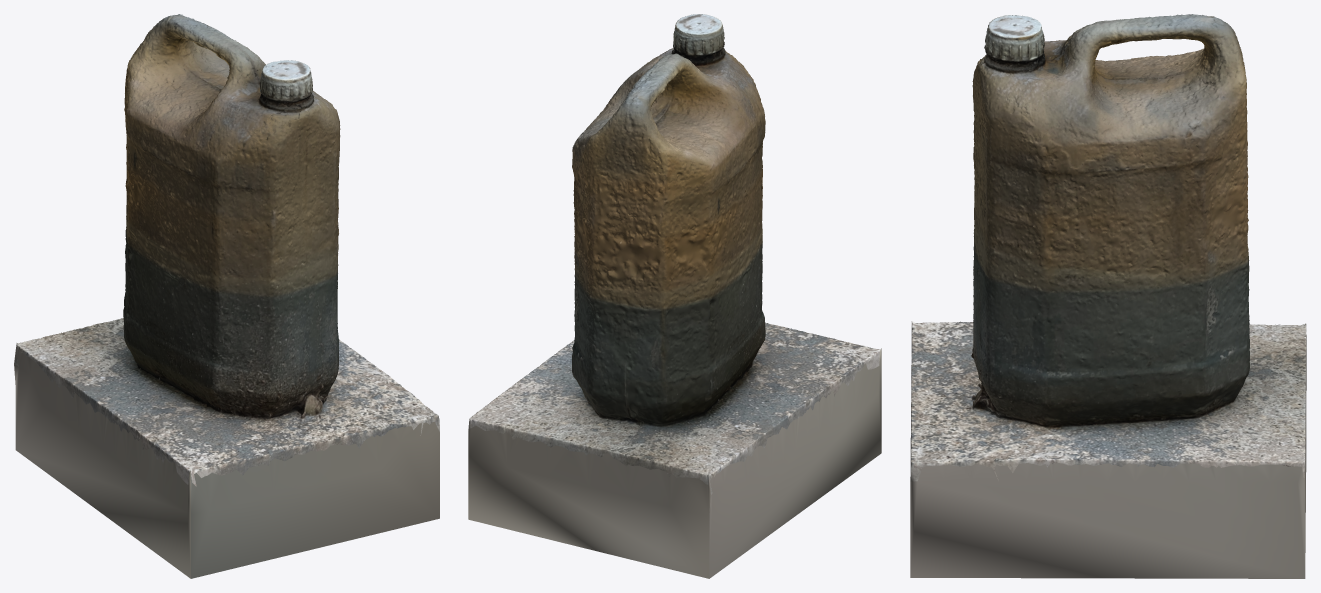
File: Oil bottle.fbx
3 views of the same model, side by side, from view 1: azimuth 30°, elevation 25°; view 2: azimuth 150°, elevation 25°; view 3: azimuth 270°, elevation 25° (orthographic). The views are drawn at different scales.
Parts seen in each view (by area): view 1: model; view 2: model; view 3: model.
Part boxes in pixels (x1,y1,x2,y2): model: [14, 14, 439, 578]; model: [468, 14, 881, 578]; model: [910, 14, 1306, 578].
Bounding box in the file's own units: 0.2833 × 0.3909 × 0.2316.
1 material, 1 textured.
